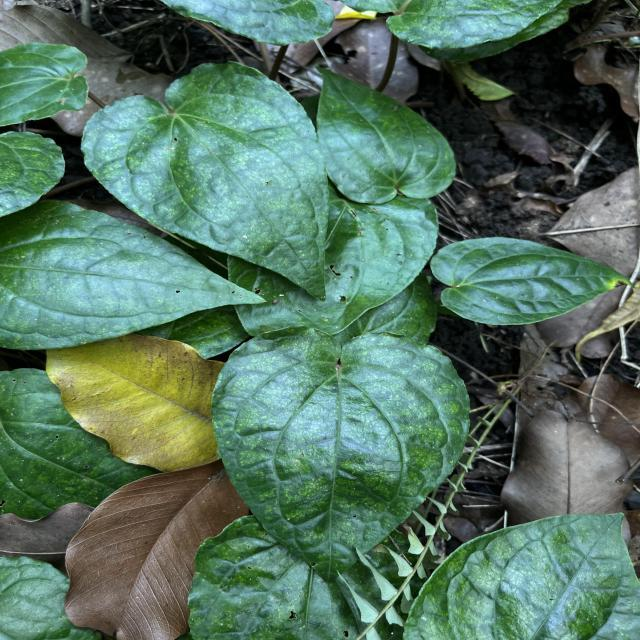Piper betle: (208, 324, 473, 588), (79, 57, 334, 306)
